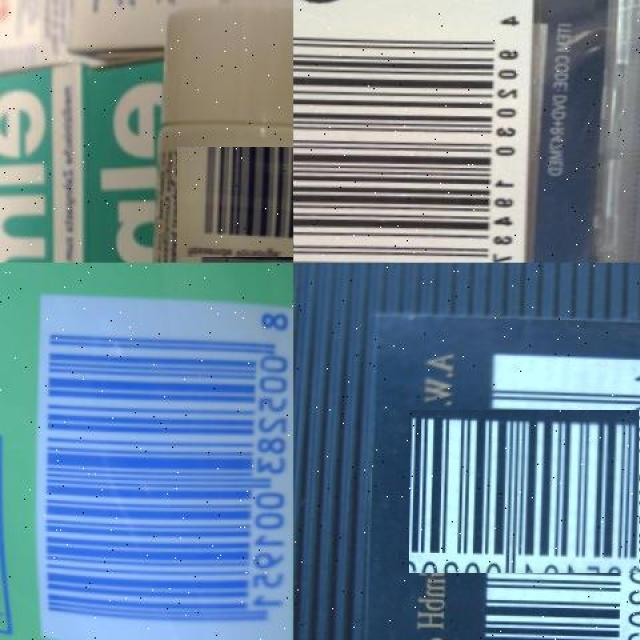Barcode: (19, 287, 293, 640), (293, 4, 524, 263), (442, 377, 640, 607), (180, 143, 296, 260)
